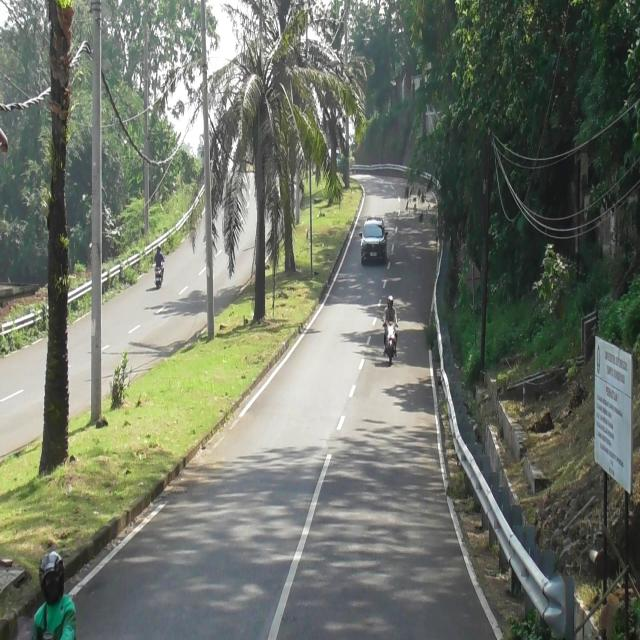motorcycle: (384, 320, 397, 364), (155, 267, 163, 286)
person: (382, 298, 399, 328), (153, 245, 165, 269)
rider_region: (383, 294, 399, 367), (154, 244, 164, 290)
